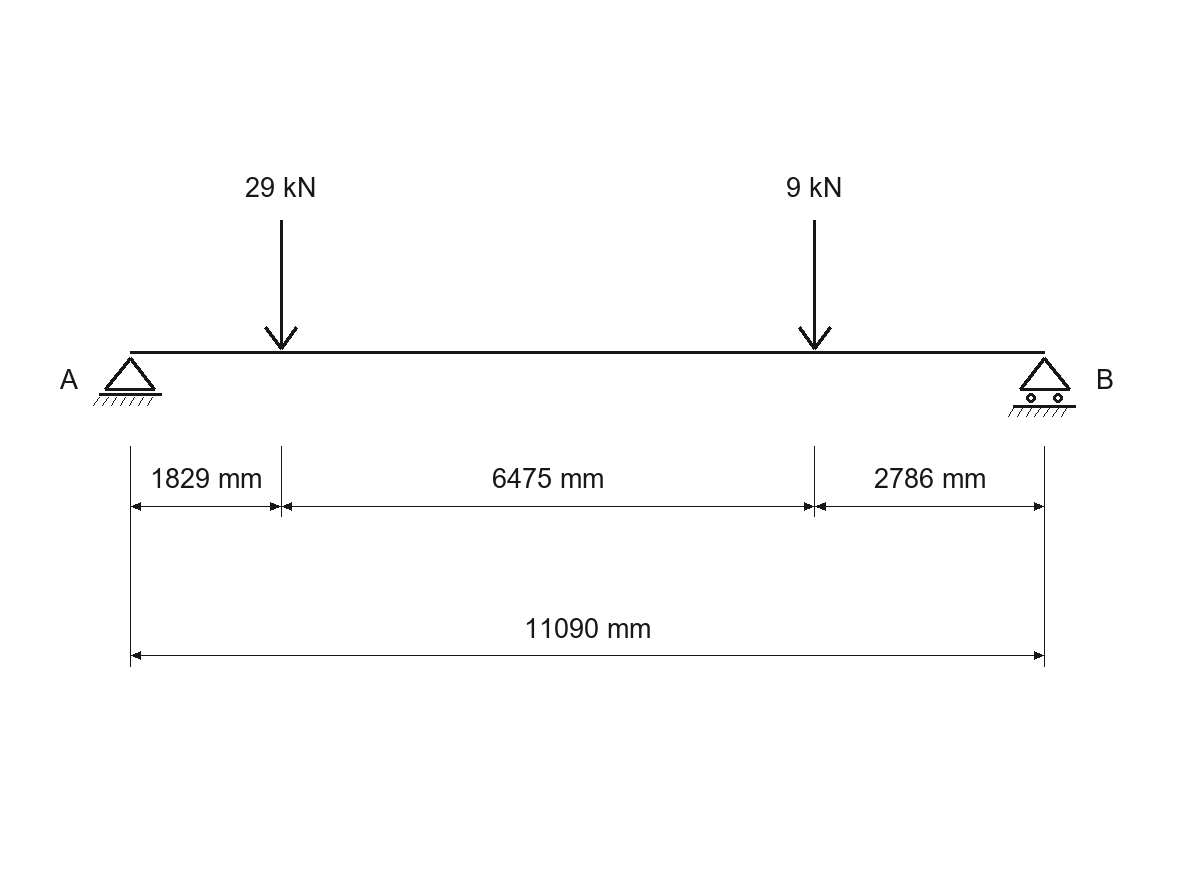pin_support: (93, 357, 162, 406)
point_load: (264, 220, 298, 350), (798, 220, 832, 350)
roller_support: (1008, 357, 1076, 417)
